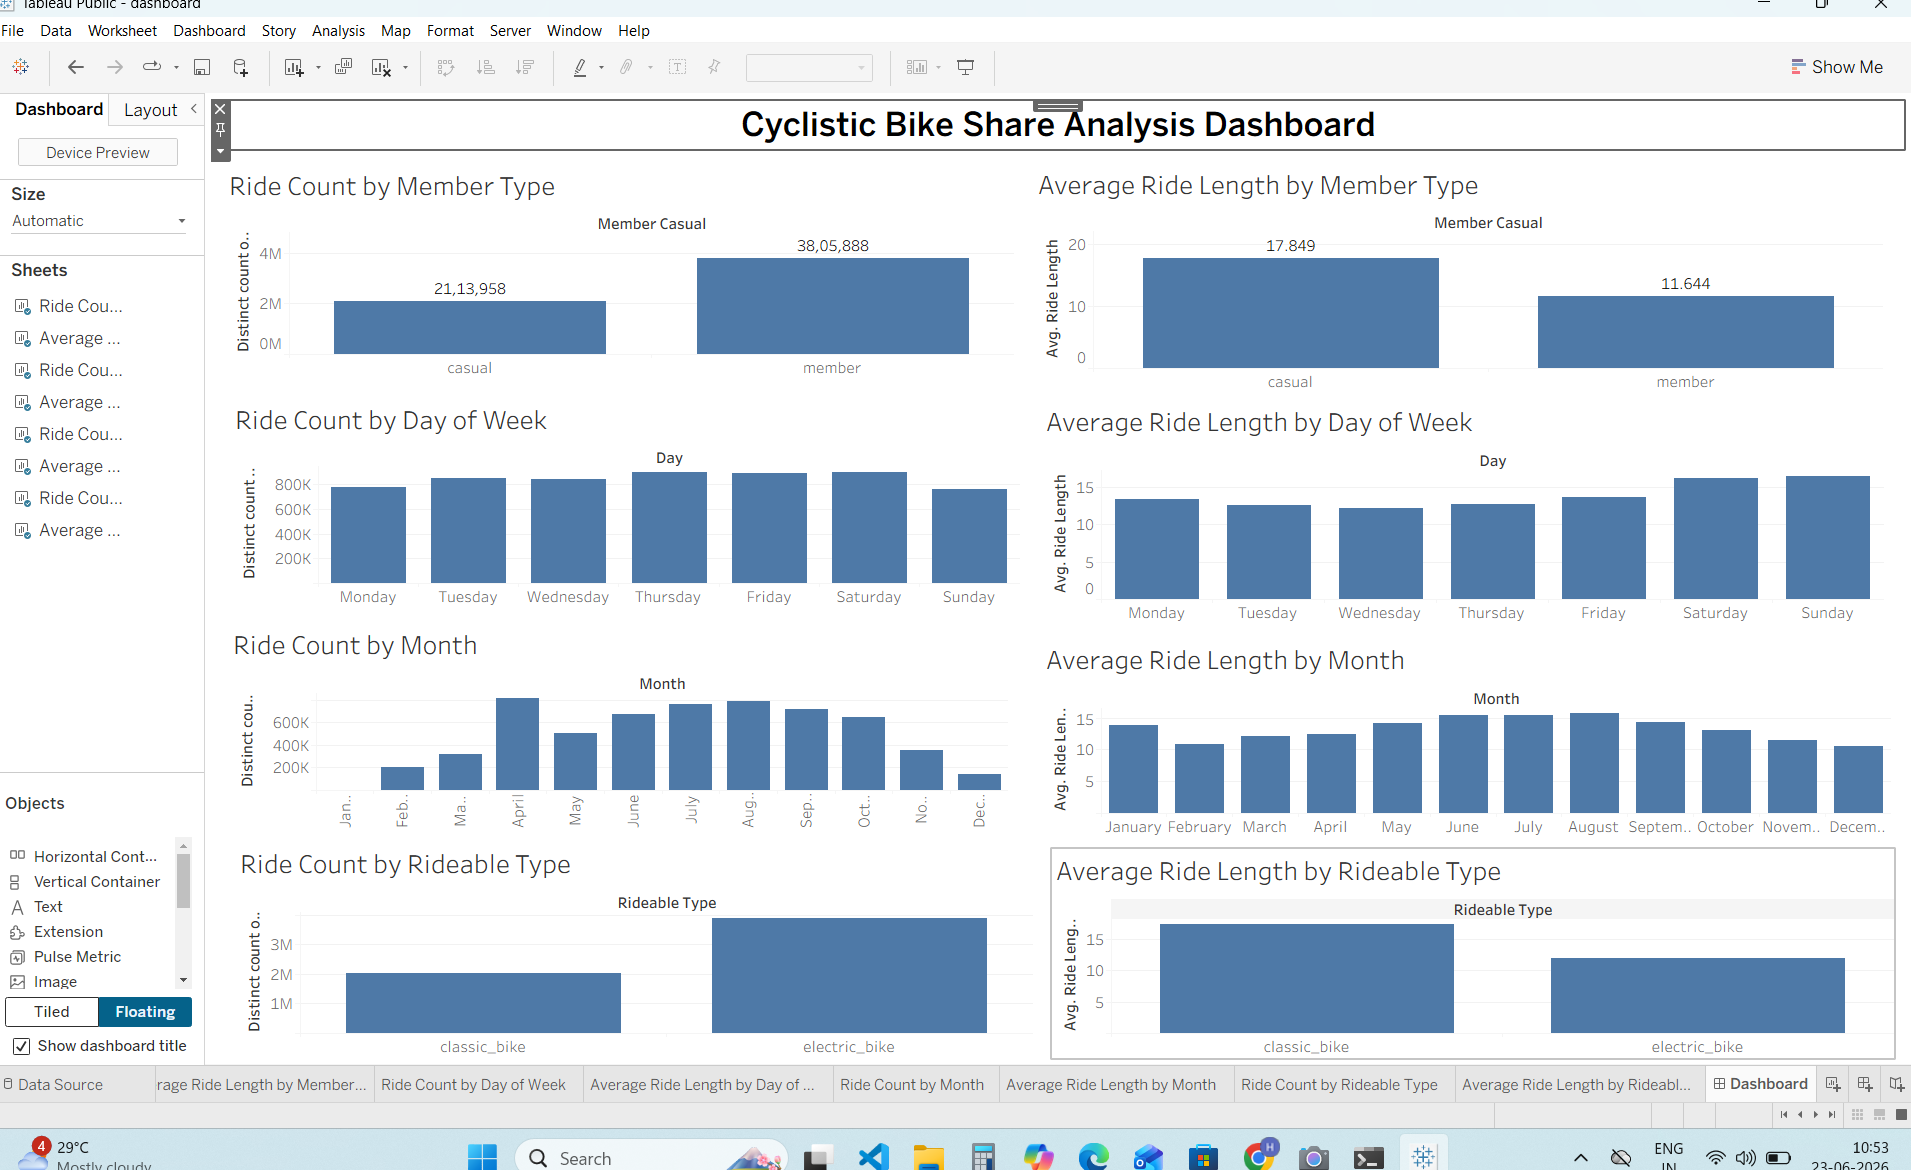

What the dashboard file says about the page in this screenshot:
{"tool":"tableau","page":{"name":"Dashboard","canvas":[1000,1000],"units":"permille","ordinal":0},"visuals":[{"type":"title","box":[4.7,8.2,990.6,49.4]},{"type":"worksheet","title":"Average Ride Length by Member Type","mark":"Automatic","rows":["ride_length"],"cols":["member_casual"],"box":[485.7,72.1,497.4,236.9]},{"type":"worksheet","title":"Ride Count by Member Type","mark":"Automatic","rows":["ride_id"],"cols":["member_casual"],"box":[11.7,73.1,462.2,221.4]},{"type":"worksheet","title":"Ride Count by Day of Week","mark":"Automatic","rows":["ride_id"],"cols":["day"],"box":[15.2,314.1,462.2,216.3]},{"type":"worksheet","title":"Average Ride Length by Day of Week","mark":"Automatic","rows":["ride_length"],"cols":["day"],"box":[490.3,316.2,493.3,230.7]},{"type":"worksheet","title":"Ride Count by Month","mark":"Automatic","rows":["ride_id"],"cols":["month"],"box":[14.1,545.8,456.4,212.2]},{"type":"worksheet","title":"Average Ride Length by Month","mark":"Automatic","rows":["ride_length"],"cols":["month"],"box":[490.3,561.3,497.4,206]},{"type":"worksheet","title":"Ride Count by Rideable Type","mark":"Automatic","rows":["ride_id"],"cols":["rideable_type"],"box":[18.2,771.4,466.9,222.5]},{"type":"worksheet","title":"Average Ride Length by Rideable Type","mark":"Automatic","rows":["ride_length"],"cols":["rideable_type"],"box":[496.2,778.6,493.3,215.2]}]}

Visuals, with their boxes on the dashboard's canvas, which has no fixed pixel size, in thousandths of its width and height (x1, y1, x2, y2). These are canvas units, not pixel positions in the 1911x1170 screenshot, which may show the page scaled, cropped or inside an application window:
title: [5, 8, 995, 58]
"Average Ride Length by Member Type" worksheet: [486, 72, 983, 309]
"Ride Count by Member Type" worksheet: [12, 73, 474, 294]
"Ride Count by Day of Week" worksheet: [15, 314, 477, 530]
"Average Ride Length by Day of Week" worksheet: [490, 316, 984, 547]
"Ride Count by Month" worksheet: [14, 546, 470, 758]
"Average Ride Length by Month" worksheet: [490, 561, 988, 767]
"Ride Count by Rideable Type" worksheet: [18, 771, 485, 994]
"Average Ride Length by Rideable Type" worksheet: [496, 779, 990, 994]
